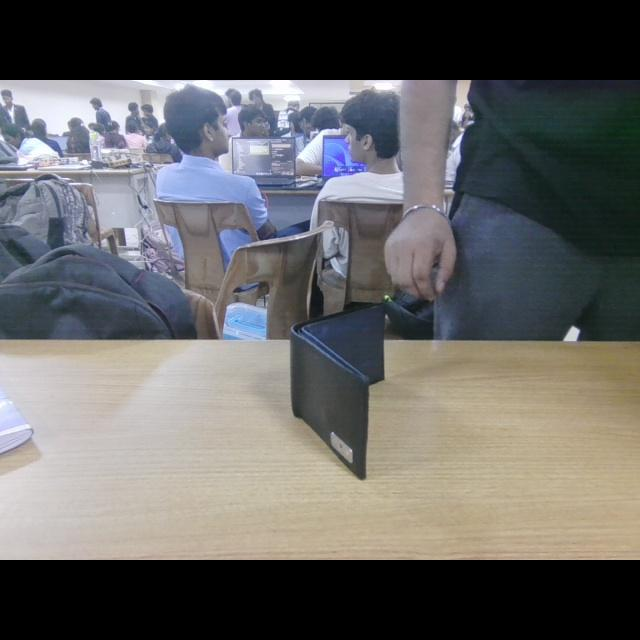wallet: (262, 292, 412, 484)
